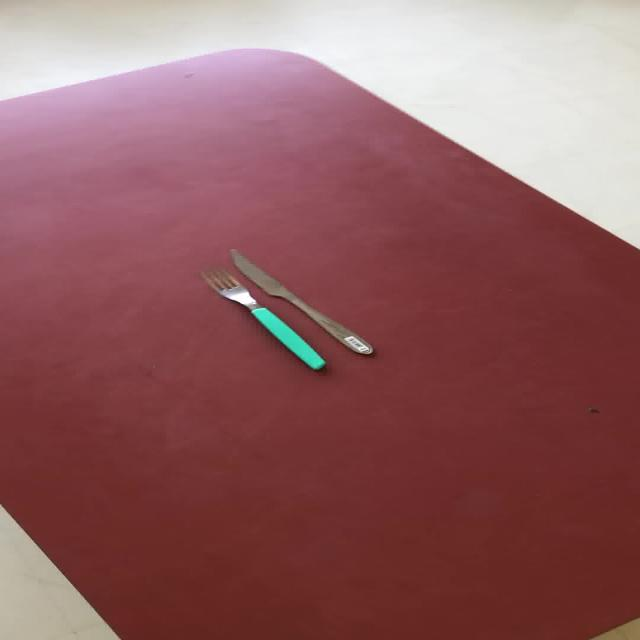fork: (198, 267, 326, 371)
knife fork: (227, 248, 374, 355)
